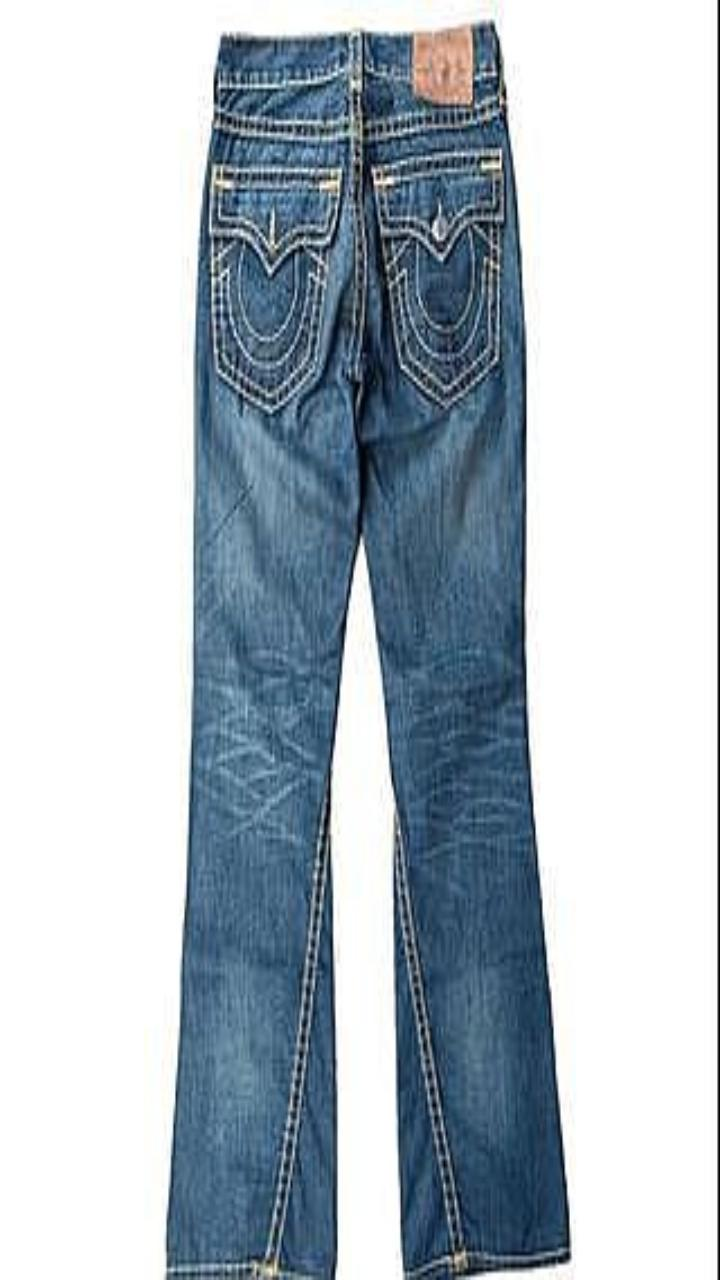Jeans: (168, 25, 568, 1279)
